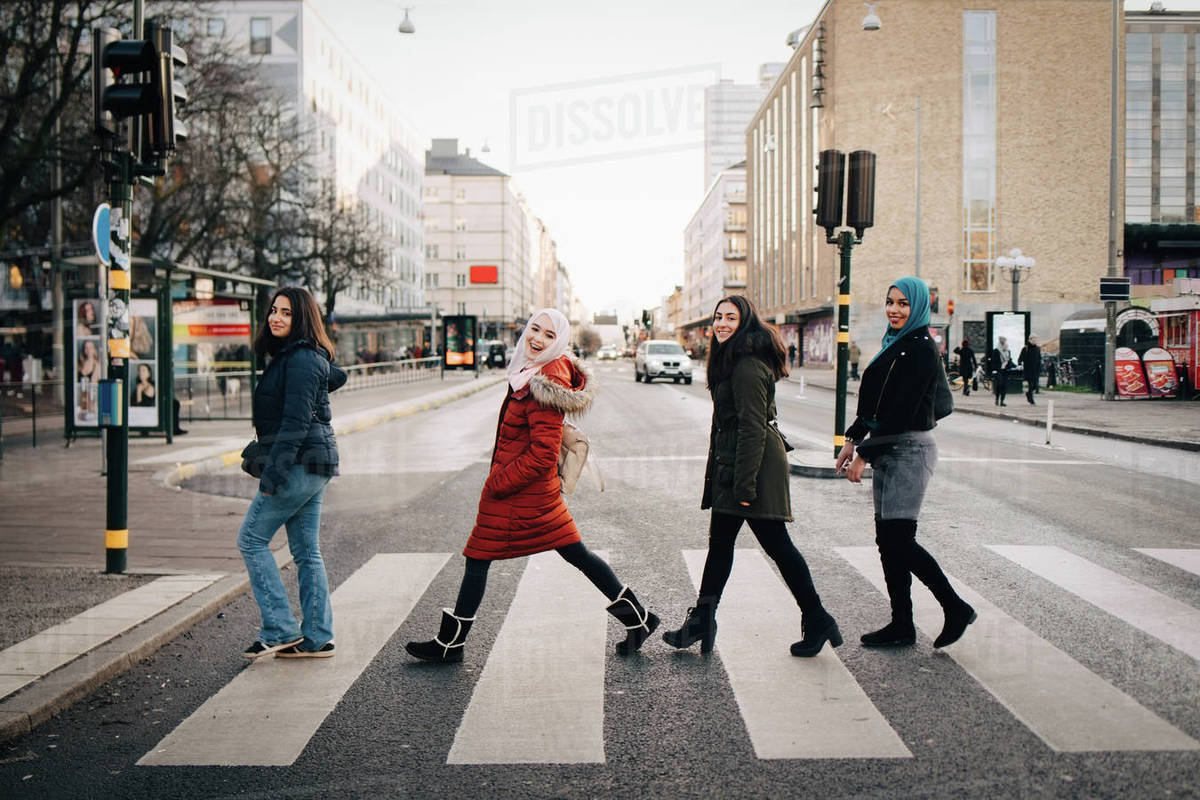without_mask: (524, 313, 555, 361), (264, 298, 296, 337), (709, 305, 740, 343), (885, 294, 910, 326)
